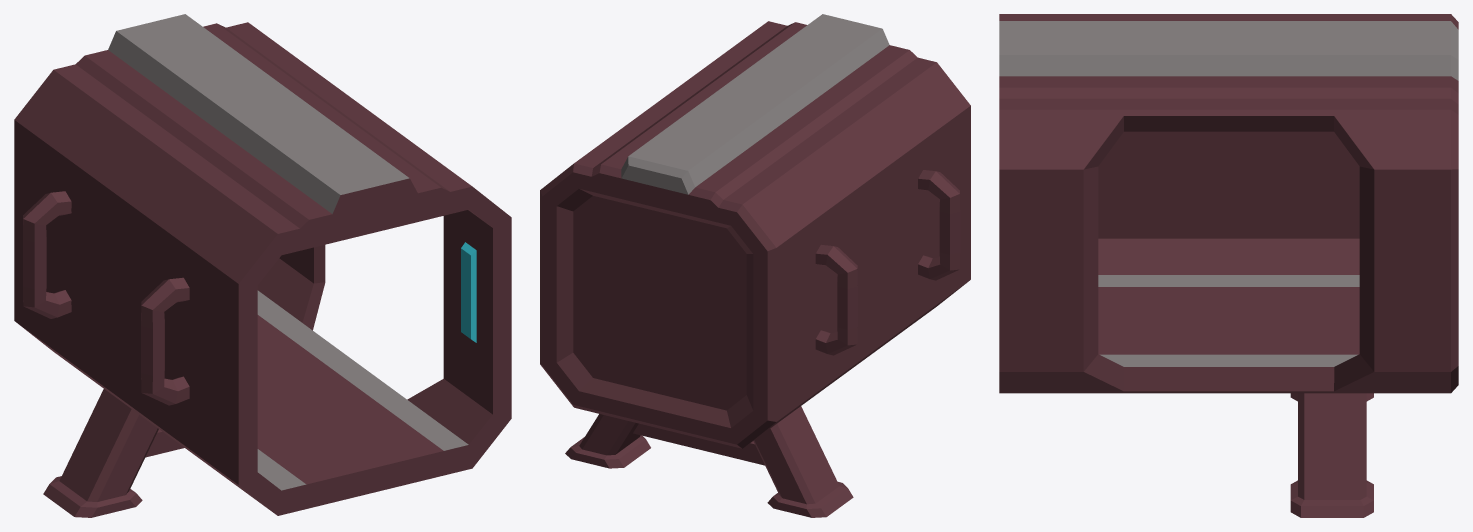
File: scifi-planet-base-hall-one-end.fbx
3 views of the same model, side by side, from view 1: azimuth 30°, elevation 25°; view 2: azimuth 150°, elevation 25°; view 3: azimuth 270°, elevation 25° (orthographic). The views are drawn at different scales.
Visible parts, largest first — view 1: scifi-planet-base-hall-one-end; view 2: scifi-planet-base-hall-one-end; view 3: scifi-planet-base-hall-one-end.
Boxes of the visible parts, x1=… form: scifi-planet-base-hall-one-end: x1=14, y1=14, x2=511, y2=517; scifi-planet-base-hall-one-end: x1=540, y1=14, x2=970, y2=517; scifi-planet-base-hall-one-end: x1=999, y1=14, x2=1458, y2=517.
Bounding box in the file's own units: 3.34 × 3.9 × 4.
